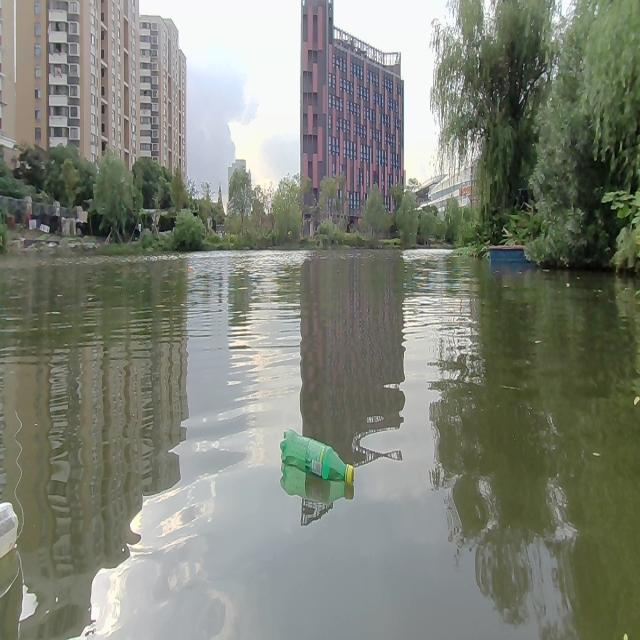bottle: (280, 425, 354, 498), (187, 264, 195, 277)
